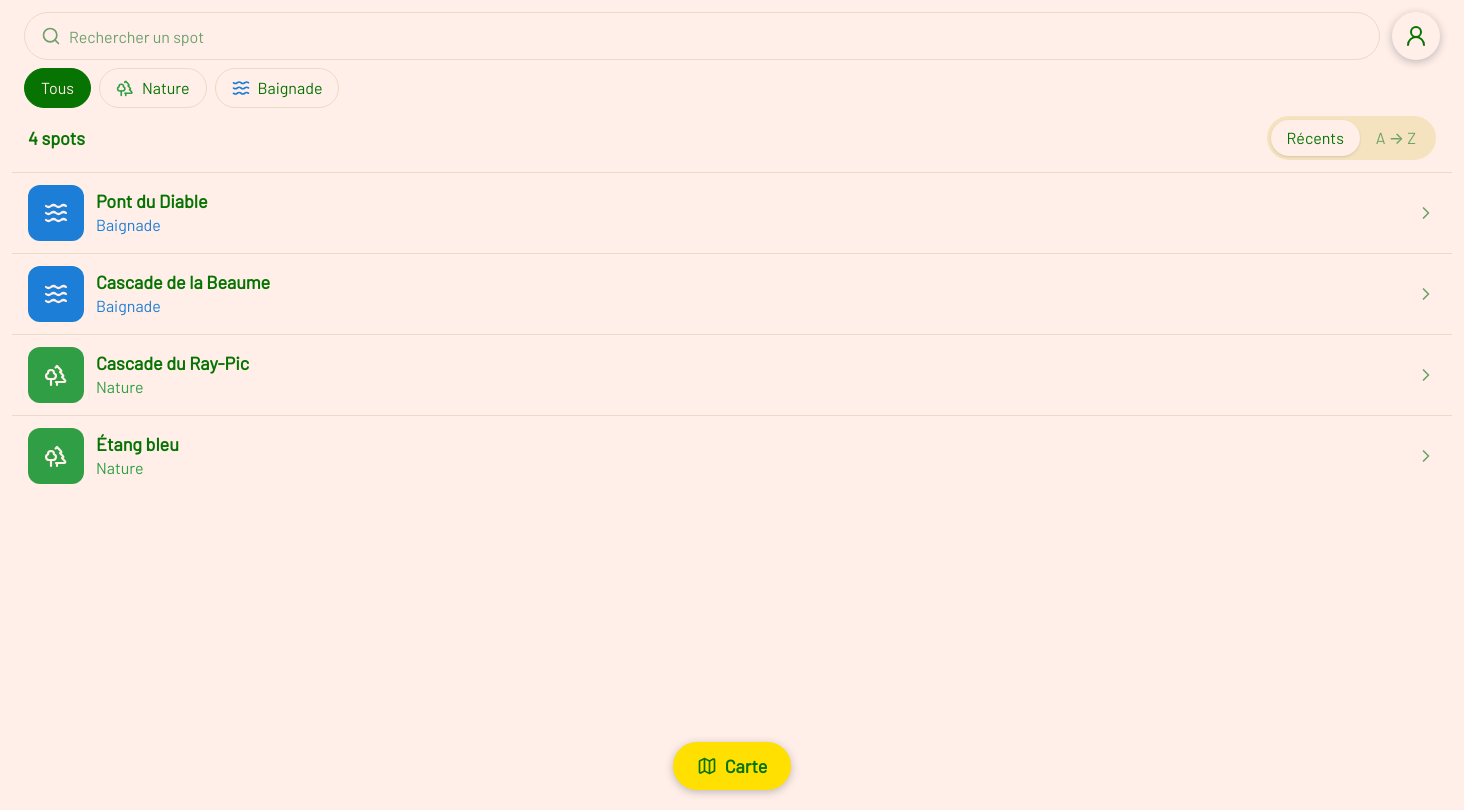
Test case: ListScreen › filtre par type et indique le décompte
The width and height of the screenshot is (1464, 810).
Expected: the heading "4 spots" is shown, [28,124,85,152]
What coordinates should you click on to do the following:
click the button "Baignade"
I would click on:
 (277, 88)
Its box is [215,68,339,108].
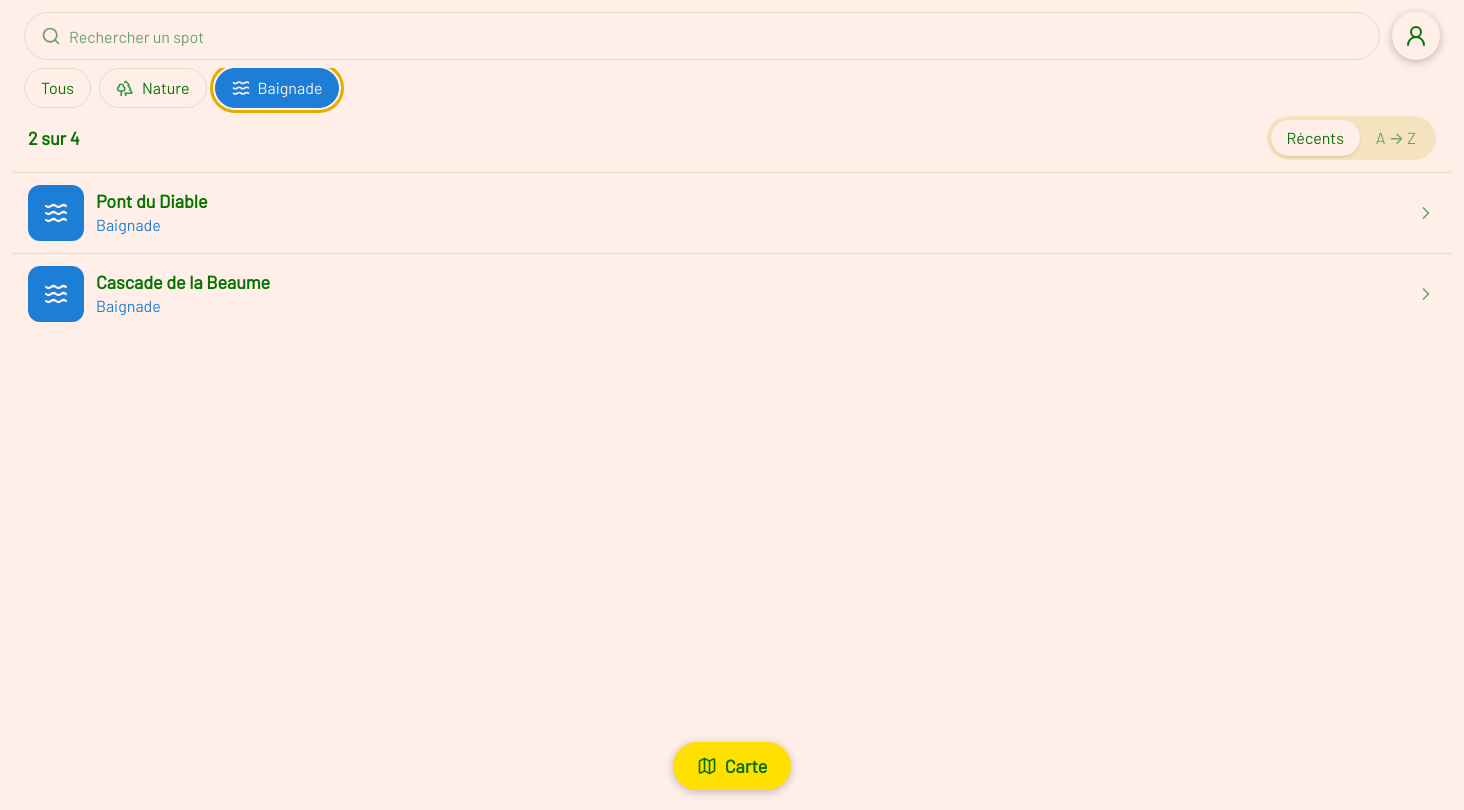
Result: the heading "2 sur 4" is shown at [28,124,80,152]
